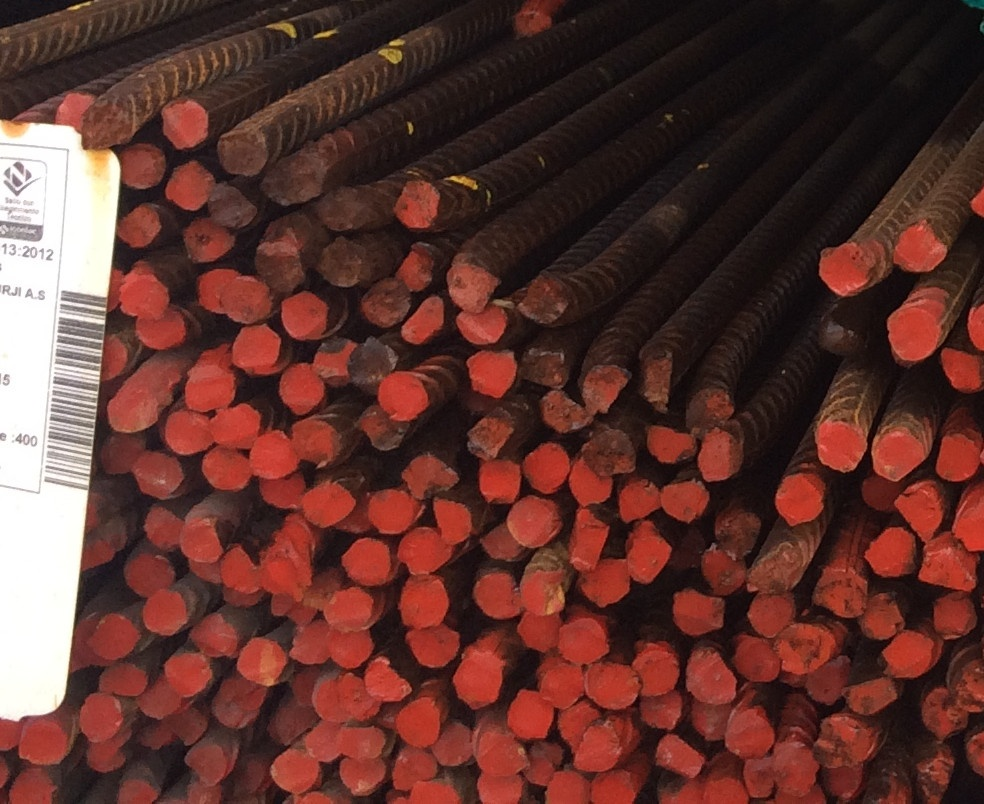dipstick: (920, 538, 980, 593), (688, 650, 736, 705), (820, 718, 872, 767), (647, 422, 699, 470), (342, 539, 392, 587), (886, 313, 933, 363), (588, 662, 639, 708), (265, 158, 320, 200), (350, 340, 394, 392), (400, 456, 454, 498), (160, 102, 208, 149), (400, 577, 447, 625), (583, 562, 631, 609), (868, 529, 916, 576), (183, 215, 232, 261), (363, 278, 409, 327), (819, 422, 863, 473), (820, 247, 868, 293), (676, 591, 725, 636), (736, 637, 780, 687), (779, 631, 831, 673), (475, 570, 520, 618), (458, 652, 498, 706), (203, 448, 253, 491), (774, 477, 820, 523), (445, 264, 492, 309), (507, 498, 552, 545), (569, 507, 604, 567), (925, 688, 967, 738), (843, 678, 898, 716), (395, 183, 440, 229), (542, 390, 588, 435), (560, 618, 604, 665), (217, 133, 267, 174), (883, 635, 934, 675), (278, 293, 323, 338), (380, 374, 425, 419), (167, 411, 212, 456), (525, 445, 571, 489), (239, 640, 285, 684), (83, 105, 130, 148), (209, 182, 252, 229), (320, 240, 363, 287), (258, 240, 301, 287), (898, 491, 940, 539), (950, 652, 983, 713), (939, 346, 983, 391), (401, 530, 447, 573), (167, 162, 209, 209), (470, 350, 512, 397), (878, 431, 920, 478), (214, 403, 255, 451), (396, 700, 437, 748), (585, 433, 634, 473), (512, 691, 552, 740), (225, 276, 269, 320), (235, 324, 279, 368), (145, 591, 189, 635), (188, 366, 231, 411), (430, 498, 475, 541), (20, 722, 63, 767), (519, 569, 562, 614), (520, 279, 562, 325), (136, 455, 183, 496), (272, 751, 320, 791), (902, 225, 942, 273), (774, 745, 814, 793), (325, 591, 374, 630), (406, 629, 459, 665), (641, 356, 675, 412), (280, 365, 324, 408), (820, 571, 864, 614), (191, 611, 236, 653), (580, 728, 622, 773), (249, 436, 296, 476), (143, 506, 183, 553), (340, 673, 380, 720), (109, 391, 157, 430), (362, 661, 410, 700), (934, 592, 976, 636), (860, 596, 904, 638), (730, 713, 772, 757), (119, 146, 164, 187), (476, 461, 521, 502), (128, 554, 175, 593), (940, 433, 978, 481), (119, 204, 161, 247), (367, 490, 411, 531), (294, 419, 332, 466), (477, 734, 524, 772), (700, 429, 734, 481), (134, 310, 183, 346), (103, 433, 145, 475), (290, 625, 332, 667), (305, 484, 349, 524), (197, 268, 236, 313), (93, 617, 138, 656), (274, 698, 312, 744), (316, 189, 363, 226), (472, 416, 513, 458), (663, 480, 704, 522), (262, 553, 303, 595), (825, 313, 865, 356), (692, 704, 732, 747), (618, 482, 663, 520), (164, 655, 209, 693), (405, 296, 442, 342), (339, 757, 386, 793), (587, 365, 620, 416), (319, 339, 354, 387), (520, 611, 560, 653), (573, 459, 612, 502), (456, 308, 505, 342), (637, 651, 674, 696), (558, 705, 598, 746), (363, 412, 405, 451), (705, 548, 743, 591), (256, 473, 304, 507), (627, 534, 659, 585), (659, 739, 703, 776), (225, 673, 271, 708), (523, 349, 565, 387), (211, 692, 254, 729), (100, 663, 145, 698), (720, 510, 755, 555), (400, 244, 432, 293), (752, 595, 791, 635), (863, 473, 902, 513), (545, 664, 583, 705), (123, 276, 165, 313), (691, 388, 726, 432), (957, 497, 984, 554), (438, 725, 472, 770), (220, 550, 261, 587), (84, 695, 119, 738), (753, 558, 796, 593), (332, 631, 371, 669), (481, 525, 521, 562), (183, 524, 224, 560), (8, 771, 52, 804), (528, 740, 558, 787), (57, 93, 93, 132), (394, 753, 434, 788), (914, 760, 949, 800), (867, 770, 908, 804), (136, 684, 179, 716), (639, 697, 683, 728), (592, 771, 633, 804), (547, 773, 592, 803), (672, 527, 703, 570), (813, 659, 844, 702), (309, 725, 344, 762), (186, 747, 229, 777), (343, 726, 383, 758), (480, 771, 524, 800), (307, 573, 340, 611), (165, 713, 206, 743), (286, 670, 321, 705), (705, 773, 744, 804), (747, 755, 776, 796), (84, 739, 121, 771), (272, 596, 315, 623), (218, 585, 266, 609), (99, 337, 127, 378), (340, 502, 376, 533), (824, 769, 860, 800), (315, 680, 340, 722), (116, 778, 153, 804), (136, 719, 168, 749), (238, 761, 269, 790), (663, 780, 700, 804), (189, 560, 224, 584), (967, 730, 984, 776), (184, 782, 218, 804), (970, 305, 984, 348)
